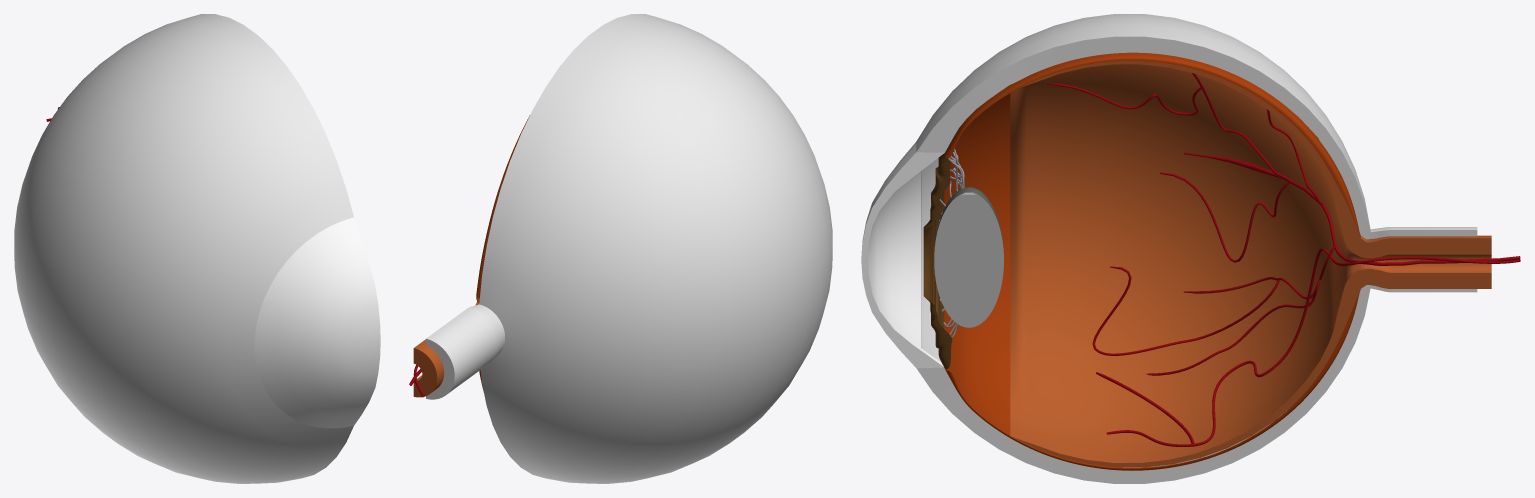
Rendered from eye.glb.
The picture shows the model from 3 angles, left to right: view 1: azimuth 30°, elevation 25°; view 2: azimuth 150°, elevation 25°; view 3: azimuth 270°, elevation 25°; orthographic projection. The views are drawn at different scales.
Visible parts, largest first — view 1: Sphere.004, Sphere.005; view 2: Sphere.004, Sphere.003, Sphere; view 3: Sphere.003, Sphere.004, Sphere, Sphere.005, Sphere.006, BezierCurve.009, Sphere.002, BezierCurve.
Part boxes in pixels (x1,y1,x2,y2): Sphere.004: (14,14,353,483); Sphere.005: (254,217,380,428); Sphere.004: (426,14,832,483); Sphere.003: (413,297,479,397); Sphere: (476,115,529,392); Sphere.003: (1010,61,1491,467); Sphere.004: (916,14,1477,483); Sphere: (944,52,1359,470); Sphere.005: (861,142,944,368); Sphere.006: (934,192,1003,327); BezierCurve.009: (1046,73,1520,375); Sphere.002: (923,153,952,369); BezierCurve: (1096,248,1520,446).
Size of the model in its own units: 1.53 by 2.88 by 3.85.
